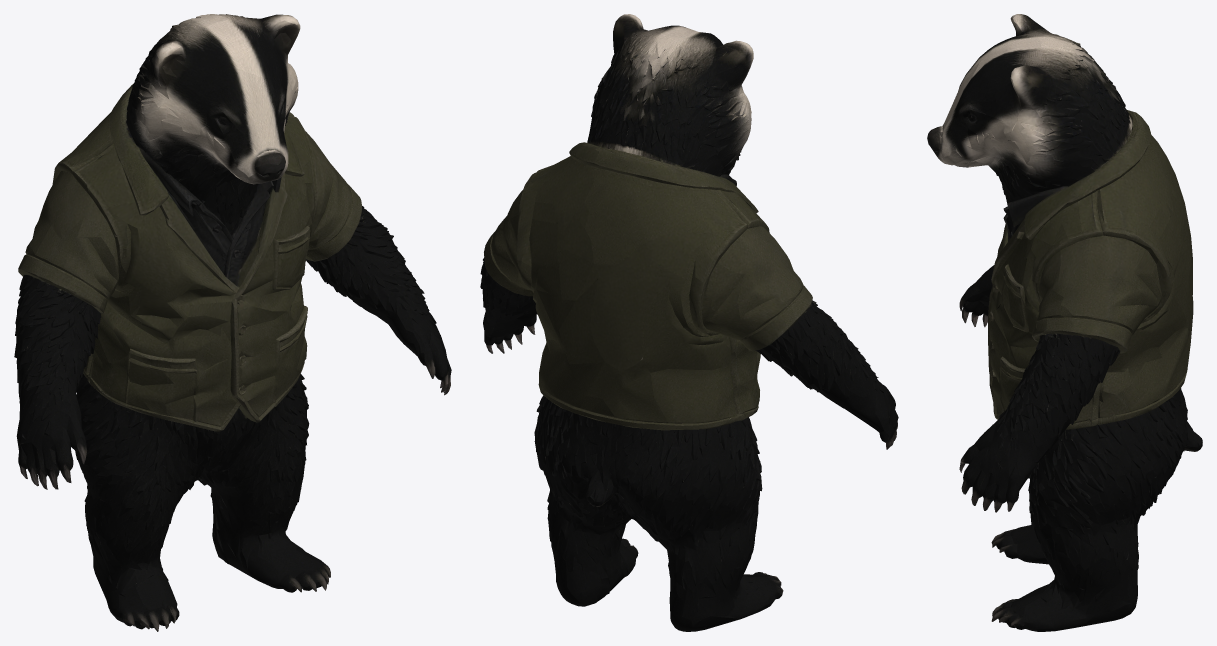
The model's file is kok-mesh.glb.
3 views of the same model, side by side, from view 1: azimuth 30°, elevation 25°; view 2: azimuth 150°, elevation 25°; view 3: azimuth 270°, elevation 25° (orthographic). The views are drawn at different scales.
Parts seen in each view (by area): view 1: Mesh_0; view 2: Mesh_0; view 3: Mesh_0.
Part boxes in pixels (x1,y1,x2,y2): Mesh_0: (14, 14, 451, 631); Mesh_0: (480, 14, 898, 631); Mesh_0: (927, 14, 1202, 631).
Size of the model in its own units: 1.46 by 1.9 by 0.8647.
1 material, 1 textured.
